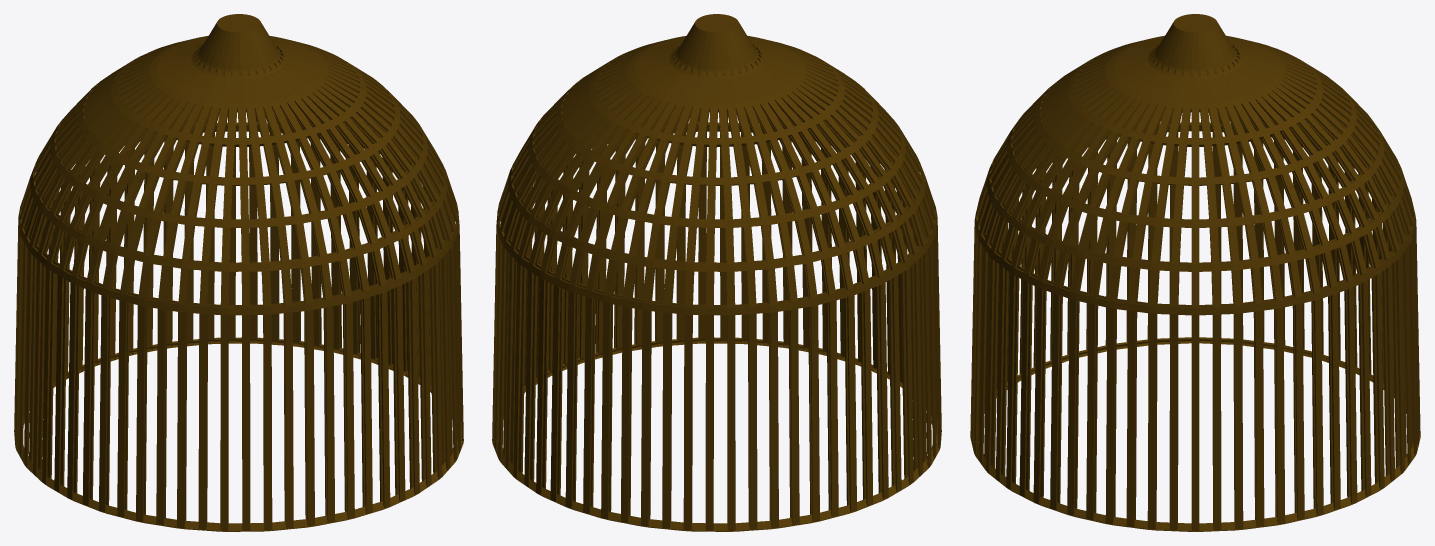
The model's file is KandangAyam.fbx.
3 renders of one model, left to right at view 1: azimuth 30°, elevation 25°; view 2: azimuth 150°, elevation 25°; view 3: azimuth 270°, elevation 25°, orthographic.
Parts seen in each view (by area): view 1: Sphere; view 2: Sphere; view 3: Sphere.
Boxes of the visible parts, <box> form: Sphere: <box>14,14,463,531</box>; Sphere: <box>492,14,941,531</box>; Sphere: <box>970,14,1420,531</box>.
Bounding box in the file's own units: 200 × 203 × 200.
